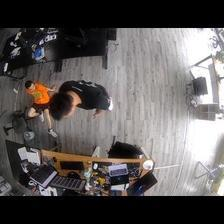fall: (22, 79, 57, 139)
normal: (53, 82, 115, 119)
